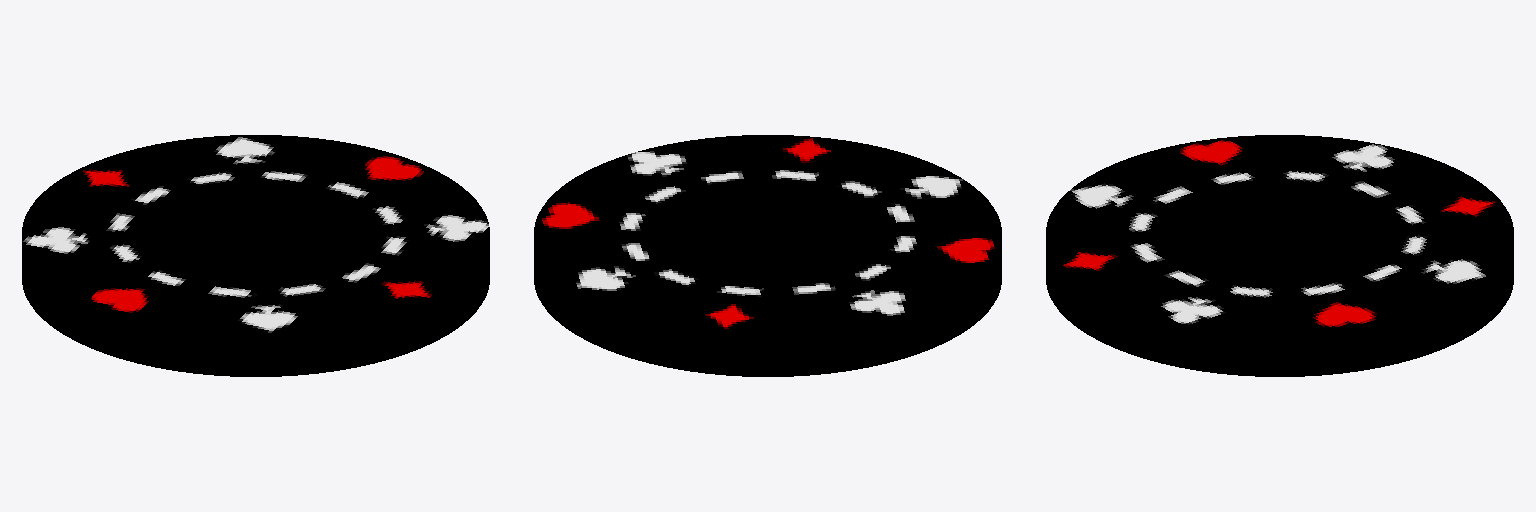
3 views of the same model, side by side, from view 1: azimuth 30°, elevation 25°; view 2: azimuth 150°, elevation 25°; view 3: azimuth 270°, elevation 25° (orthographic).
Visible parts, largest first — view 1: Cylinder.001_Cylinder.000; view 2: Cylinder.001_Cylinder.000; view 3: Cylinder.001_Cylinder.000.
Part boxes in pixels (left/top/right/bottom): Cylinder.001_Cylinder.000: left=22, top=135, right=489, bottom=376; Cylinder.001_Cylinder.000: left=534, top=135, right=1001, bottom=376; Cylinder.001_Cylinder.000: left=1046, top=135, right=1513, bottom=376.
Bounding box in the file's own units: 0.0506 × 0.0053 × 0.0506.
1 materials, 1 textured.